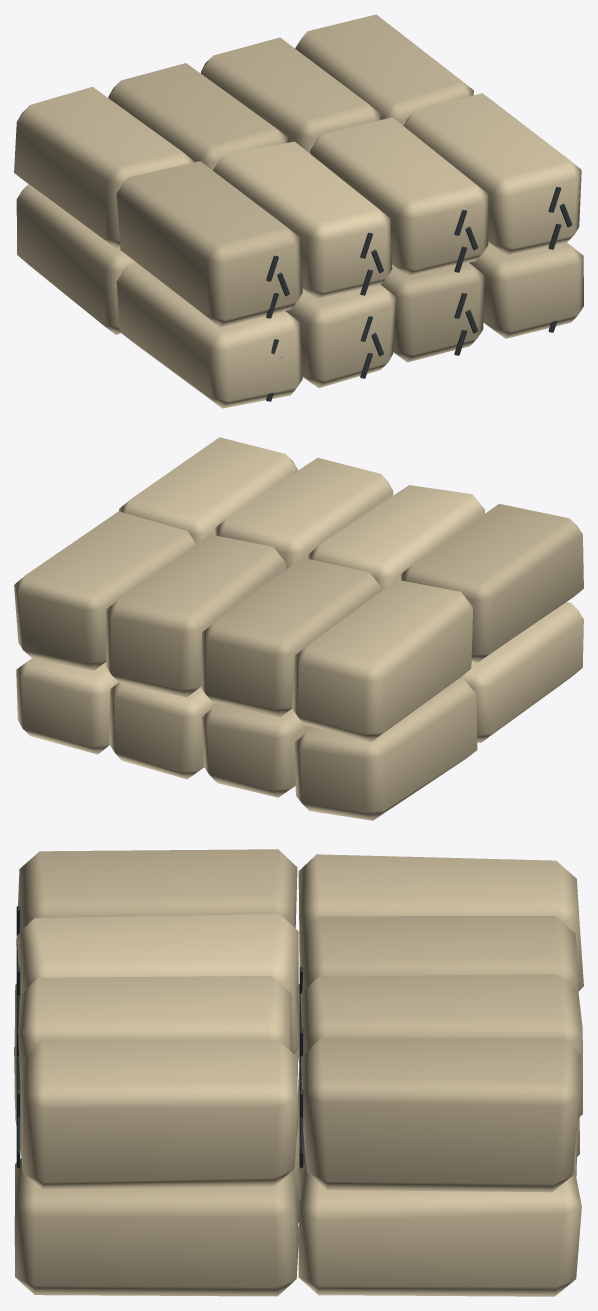
File: JPN-08.glb
The picture shows the model from 3 angles, top to bottom: view 1: azimuth 30°, elevation 25°; view 2: azimuth 150°, elevation 25°; view 3: azimuth 270°, elevation 25°; orthographic projection. The views are drawn at different scales.
Visible parts, largest first — view 1: hand-shaped masonry.008, hand-shaped masonry.012, hand-shaped masonry.014, hand-shaped masonry.009, hand-shaped masonry, hand-shaped masonry.010, hand-shaped masonry.013, hand-shaped masonry.015, hand-shaped masonry.011, hand-shaped masonry.001, hand-shaped masonry.006, hand-shaped masonry.002 (+1 smaller); view 2: hand-shaped masonry.009, hand-shaped masonry.013, hand-shaped masonry.008, hand-shaped masonry.011, hand-shaped masonry.015, hand-shaped masonry.001, hand-shaped masonry.012, hand-shaped masonry.014, hand-shaped masonry.010, hand-shaped masonry, hand-shaped masonry.005, hand-shaped masonry.003 (+1 smaller); view 3: hand-shaped masonry.015, hand-shaped masonry.014, hand-shaped masonry.006, hand-shaped masonry.007, hand-shaped masonry.008, hand-shaped masonry.013, hand-shaped masonry.010, hand-shaped masonry.012, hand-shaped masonry.009, hand-shaped masonry.011.
Part boxes in pixels (x1,y1,x2,y2): hand-shaped masonry.008: (116,161,302,327); hand-shaped masonry.012: (310,117,488,276); hand-shaped masonry.014: (403,93,581,255); hand-shaped masonry.009: (14,87,194,248); hand-shaped masonry: (116,262,302,408); hand-shaped masonry.010: (213,141,392,299); hand-shaped masonry.013: (201,37,380,153); hand-shaped masonry.015: (295,14,473,125); hand-shaped masonry.011: (108,63,287,170); hand-shaped masonry.001: (16,184,135,334); hand-shaped masonry.006: (469,242,583,338); hand-shaped masonry.002: (285,285,395,387); hand-shaped masonry.009: (292,579,472,741); hand-shaped masonry.013: (106,534,285,697); hand-shaped masonry.008: (401,503,583,662); hand-shaped masonry.011: (201,557,382,716); hand-shaped masonry.015: (14,511,196,670); hand-shaped masonry.001: (295,678,477,820); hand-shaped masonry.012: (215,457,393,569); hand-shaped masonry.014: (119,437,298,543); hand-shaped masonry.010: (308,485,484,590); hand-shaped masonry: (460,602,583,742); hand-shaped masonry.005: (109,682,217,779); hand-shaped masonry.003: (202,703,312,797); hand-shaped masonry.015: (301,1037,581,1192); hand-shaped masonry.014: (20,1040,297,1190); hand-shaped masonry.006: (14,1158,298,1296); hand-shaped masonry.007: (298,1163,581,1296); hand-shaped masonry.008: (16,849,297,945); hand-shaped masonry.013: (300,974,582,1117); hand-shaped masonry.010: (16,914,298,1053); hand-shaped masonry.012: (18,976,292,1083); hand-shaped masonry.009: (298,854,583,990); hand-shaped masonry.011: (300,916,578,998).
Size of the model in its own units: 1.94 by 0.8274 by 1.89.
